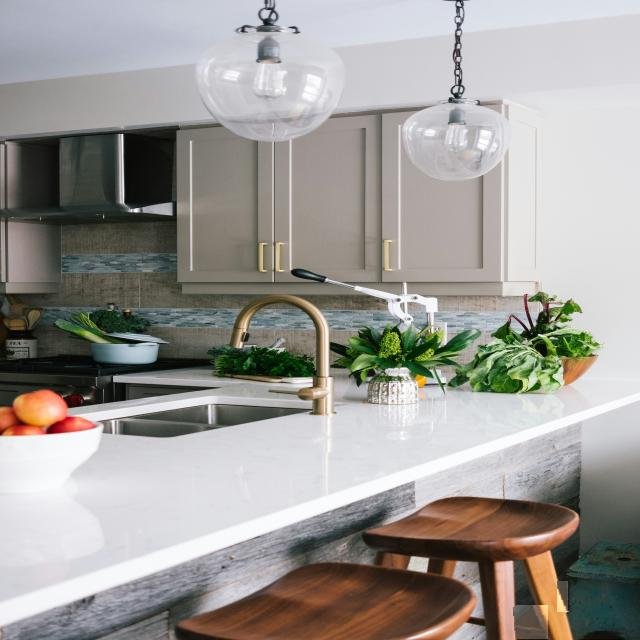floor: (515, 606, 548, 640), (585, 631, 625, 639), (558, 581, 568, 611)
